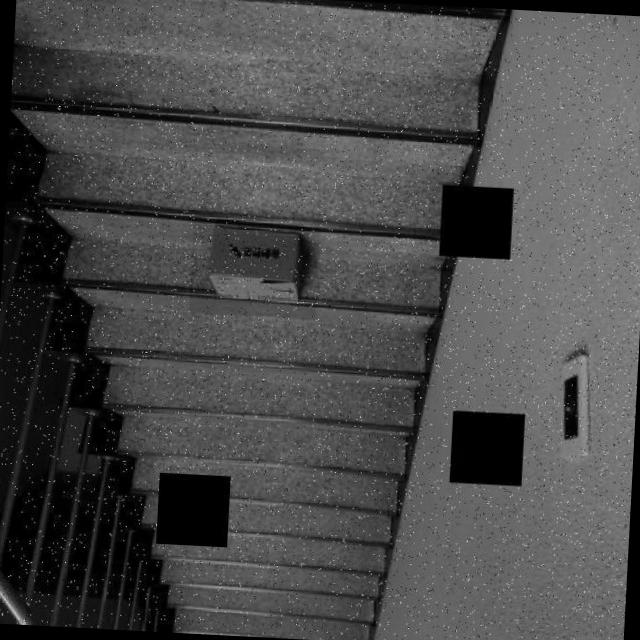box: (189, 205, 322, 320)
